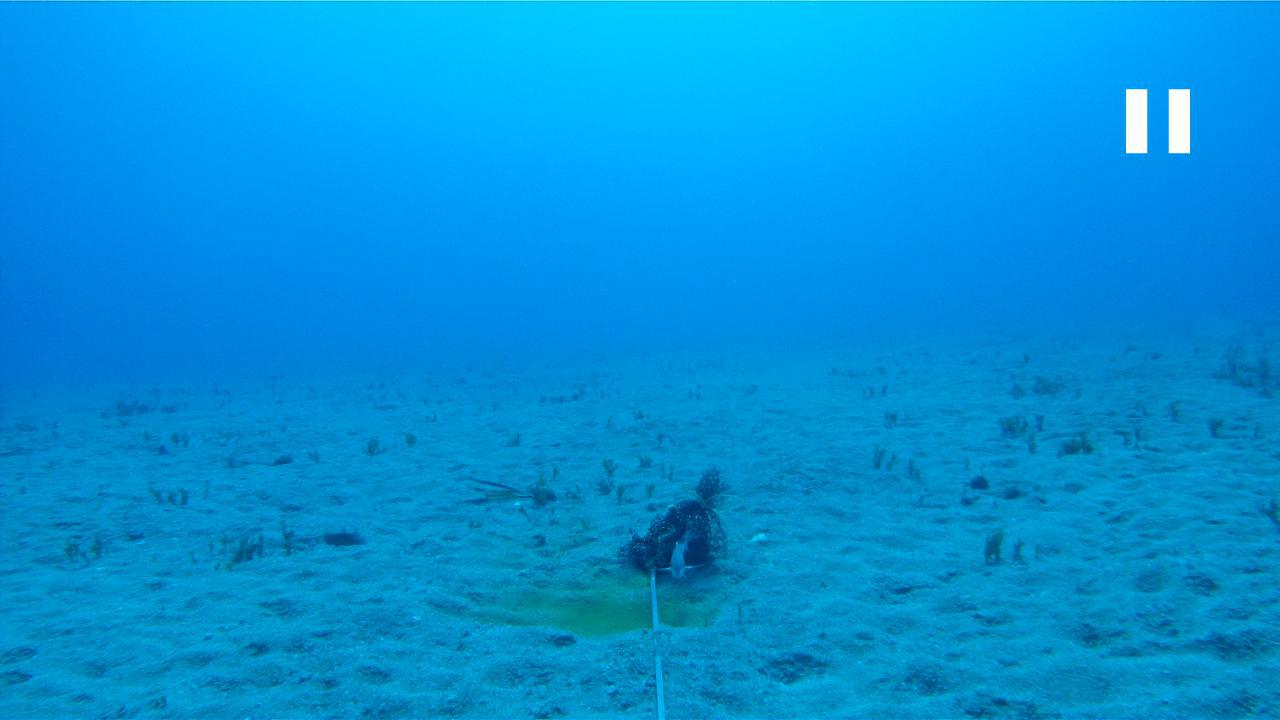bothus: (322, 516, 365, 549)
